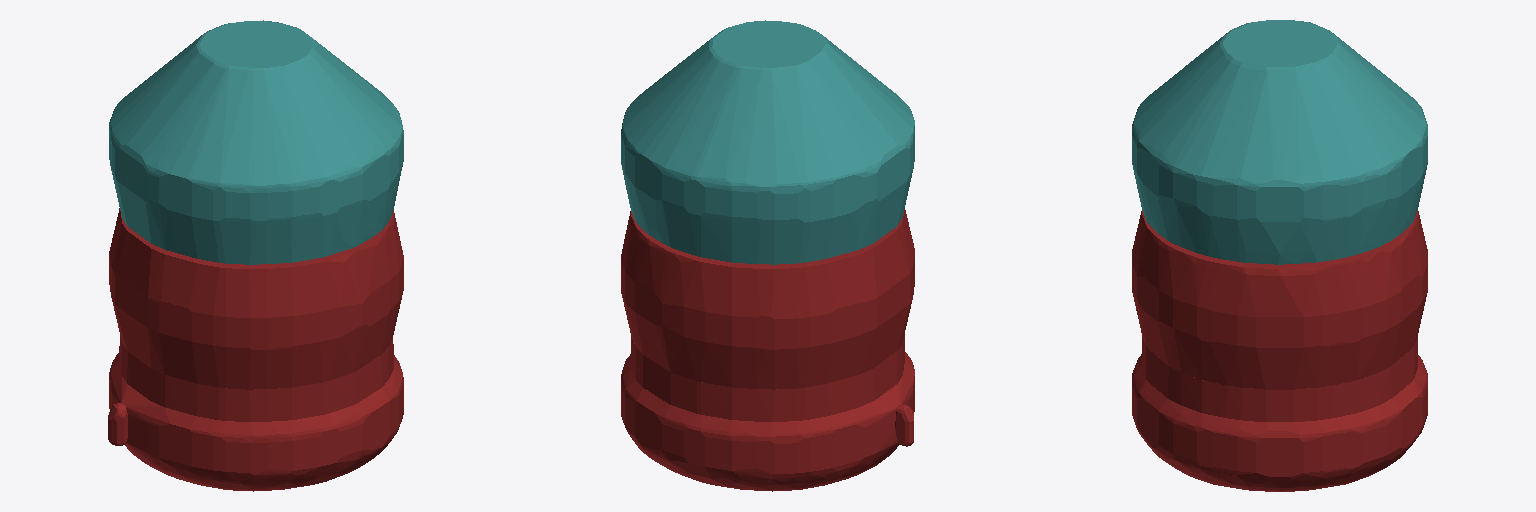
URDF robot description (root):
<robot name="root">
  <link name="bottle_body">
    <inertial>
      <origin xyz="0 0 0" rpy="0 0 0"/>
    </inertial>
    <mass value="1.00E-02"/>
    <visual>
      <origin xyz="0 0 0" rpy="0 0 0"/>
      <geometry>
        <mesh filename="core-bottle-a02a1255256fbe01c9292f26f73f6538-coacd_convex_piece_3.obj" scale="1.0000E-01 1.0000E-01 1.0000E-01"/>
      </geometry>
      <material name="">
        <color rgba="6.00E-01 2.00E-01 2.00E-01 1"/>
      </material>
    </visual>
    <collision>
      <origin xyz="0 0 0" rpy="0 0 0"/>
      <geometry>
        <mesh filename="core-bottle-a02a1255256fbe01c9292f26f73f6538-coacd_convex_piece_3.obj" scale="1.0000E-01 1.0000E-01 1.0000E-01"/>
      </geometry>
    </collision>
    <visual>
      <origin xyz="0 0 0" rpy="0 0 0"/>
      <geometry>
        <mesh filename="core-bottle-a02a1255256fbe01c9292f26f73f6538-coacd_convex_piece_2.obj" scale="1.0000E-01 1.0000E-01 1.0000E-01"/>
      </geometry>
      <material name="">
        <color rgba="6.00E-01 2.00E-01 2.00E-01 1"/>
      </material>
    </visual>
    <collision>
      <origin xyz="0 0 0" rpy="0 0 0"/>
      <geometry>
        <mesh filename="core-bottle-a02a1255256fbe01c9292f26f73f6538-coacd_convex_piece_2.obj" scale="1.0000E-01 1.0000E-01 1.0000E-01"/>
      </geometry>
    </collision>
    <visual>
      <origin xyz="0 0 0" rpy="0 0 0"/>
      <geometry>
        <mesh filename="core-bottle-a02a1255256fbe01c9292f26f73f6538-coacd_convex_piece_4.obj" scale="1.0000E-01 1.0000E-01 1.0000E-01"/>
      </geometry>
      <material name="">
        <color rgba="6.00E-01 2.00E-01 2.00E-01 1"/>
      </material>
    </visual>
    <collision>
      <origin xyz="0 0 0" rpy="0 0 0"/>
      <geometry>
        <mesh filename="core-bottle-a02a1255256fbe01c9292f26f73f6538-coacd_convex_piece_4.obj" scale="1.0000E-01 1.0000E-01 1.0000E-01"/>
      </geometry>
    </collision>
    <visual>
      <origin xyz="0 0 0" rpy="0 0 0"/>
      <geometry>
        <mesh filename="core-bottle-a02a1255256fbe01c9292f26f73f6538-coacd_convex_piece_1.obj" scale="1.0000E-01 1.0000E-01 1.0000E-01"/>
      </geometry>
      <material name="">
        <color rgba="6.00E-01 2.00E-01 2.00E-01 1"/>
      </material>
    </visual>
    <collision>
      <origin xyz="0 0 0" rpy="0 0 0"/>
      <geometry>
        <mesh filename="core-bottle-a02a1255256fbe01c9292f26f73f6538-coacd_convex_piece_1.obj" scale="1.0000E-01 1.0000E-01 1.0000E-01"/>
      </geometry>
    </collision>
  </link>
  <link name="bottle_cap">
    <origin xyz="0 0 0.002" rpy="0 0 0"/>
    <mass value="1.00E-02"/>
    <visual>
      <origin xyz="0 0 0.002" rpy="0 0 0"/>
      <geometry>
        <mesh filename="core-bottle-a02a1255256fbe01c9292f26f73f6538-coacd_convex_piece_0.obj" scale="1.0000E-01 1.0000E-01 1.0000E-01"/>
      </geometry>
      <material name="">
        <color rgba="3.00E-01 6.00E-01 6.00E-01 1"/>
      </material>
    </visual>
    <collision>
      <origin xyz="0 0 0.002" rpy="0 0 0"/>
      <geometry>
        <mesh filename="core-bottle-a02a1255256fbe01c9292f26f73f6538-coacd_convex_piece_0.obj" scale="1.0000E-01 1.0000E-01 1.0000E-01"/>
      </geometry>
    </collision>
  </link>
  <joint name="bottle_cap_joint" type="revolute">
    <origin xyz="0 0 0" rpy="0 0 0"/>
    <parent link="bottle_body"/>
    <child link="bottle_cap"/>
    <axis xyz="0 0 1"/>
    <limit lower="0.00" upper="6.28"/>
    <dynamics damping="0.05"/>
  </joint>
</robot>

--- Render facts (derived) ---
Views: 3 orthographic renders of the robot side by side, from view 1: azimuth 30°, elevation 25°; view 2: azimuth 150°, elevation 25°; view 3: azimuth 270°, elevation 25°.
Robot: root — 2 links, 1 joints (1 revolute); root link bottle_body; default pose: every joint at zero.
Links seen in each view (by area): view 1: bottle_body, bottle_cap; view 2: bottle_body, bottle_cap; view 3: bottle_body, bottle_cap.
Link boxes in pixels (bbox=[...]): bottle_body: bbox=[108, 208, 403, 491]; bottle_cap: bbox=[109, 20, 403, 264]; bottle_body: bbox=[621, 209, 914, 491]; bottle_cap: bbox=[621, 20, 914, 264]; bottle_body: bbox=[1132, 210, 1427, 491]; bottle_cap: bbox=[1132, 20, 1427, 264].
Size in the robot's own frame: 0.1233 by 0.1158 by 0.1738 metres.
Meshes: 5 distinct files referenced, 5 mesh visuals loaded (5 OBJ).